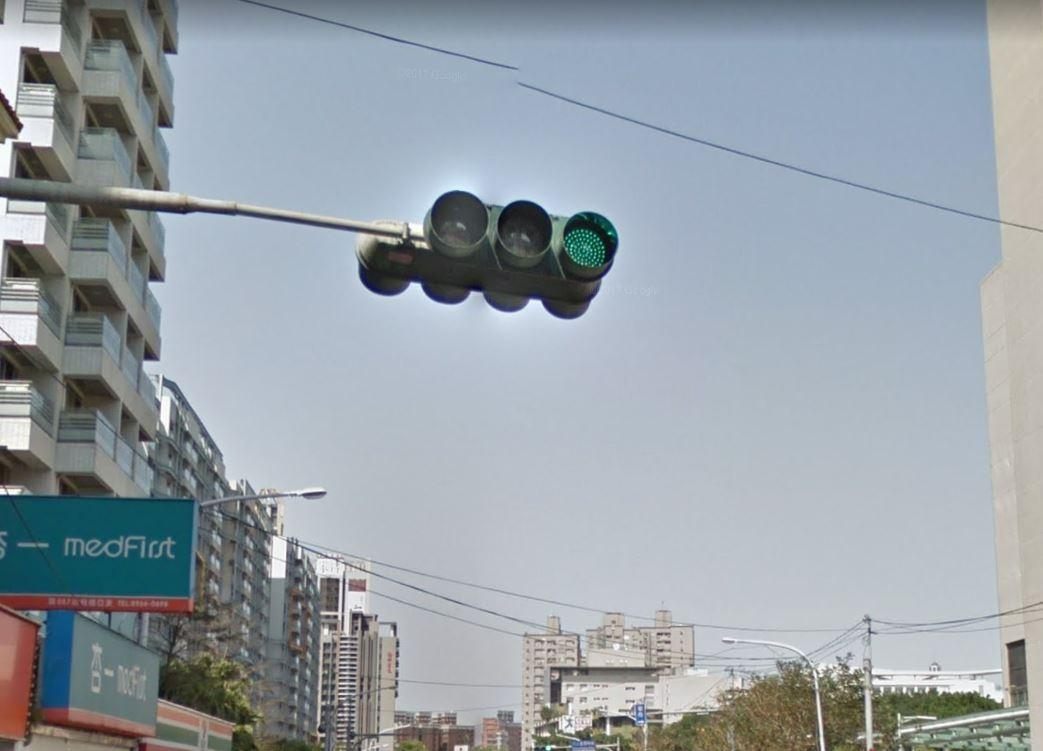green_traffic_light: (345, 156, 625, 348)
